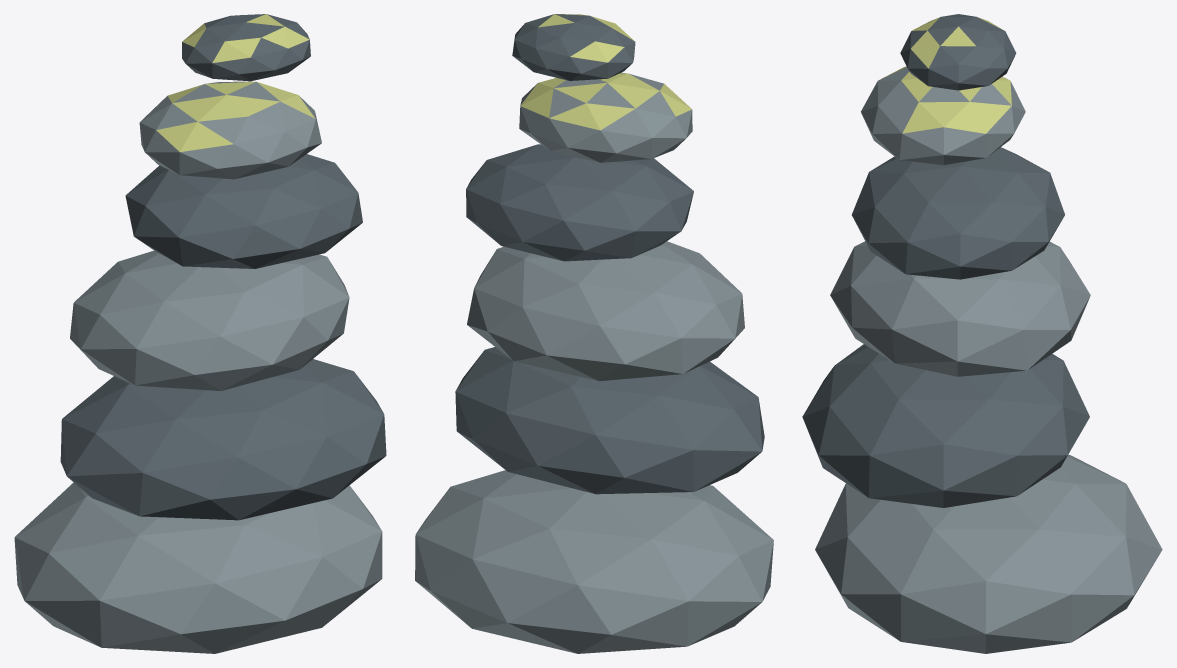
File: trail_marker.glb
3 views of the same model, side by side, from view 1: azimuth 30°, elevation 25°; view 2: azimuth 150°, elevation 25°; view 3: azimuth 270°, elevation 25° (orthographic). The views are drawn at different scales.
Parts seen in each view (by area): view 1: trail_marker.001; view 2: trail_marker.001; view 3: trail_marker.001.
Part boxes in pixels (bbox=[...]): trail_marker.001: bbox=[14, 14, 386, 653]; trail_marker.001: bbox=[415, 14, 773, 653]; trail_marker.001: bbox=[802, 14, 1162, 653].
Size of the model in its own units: 0.6009 by 0.94 by 0.5372.
